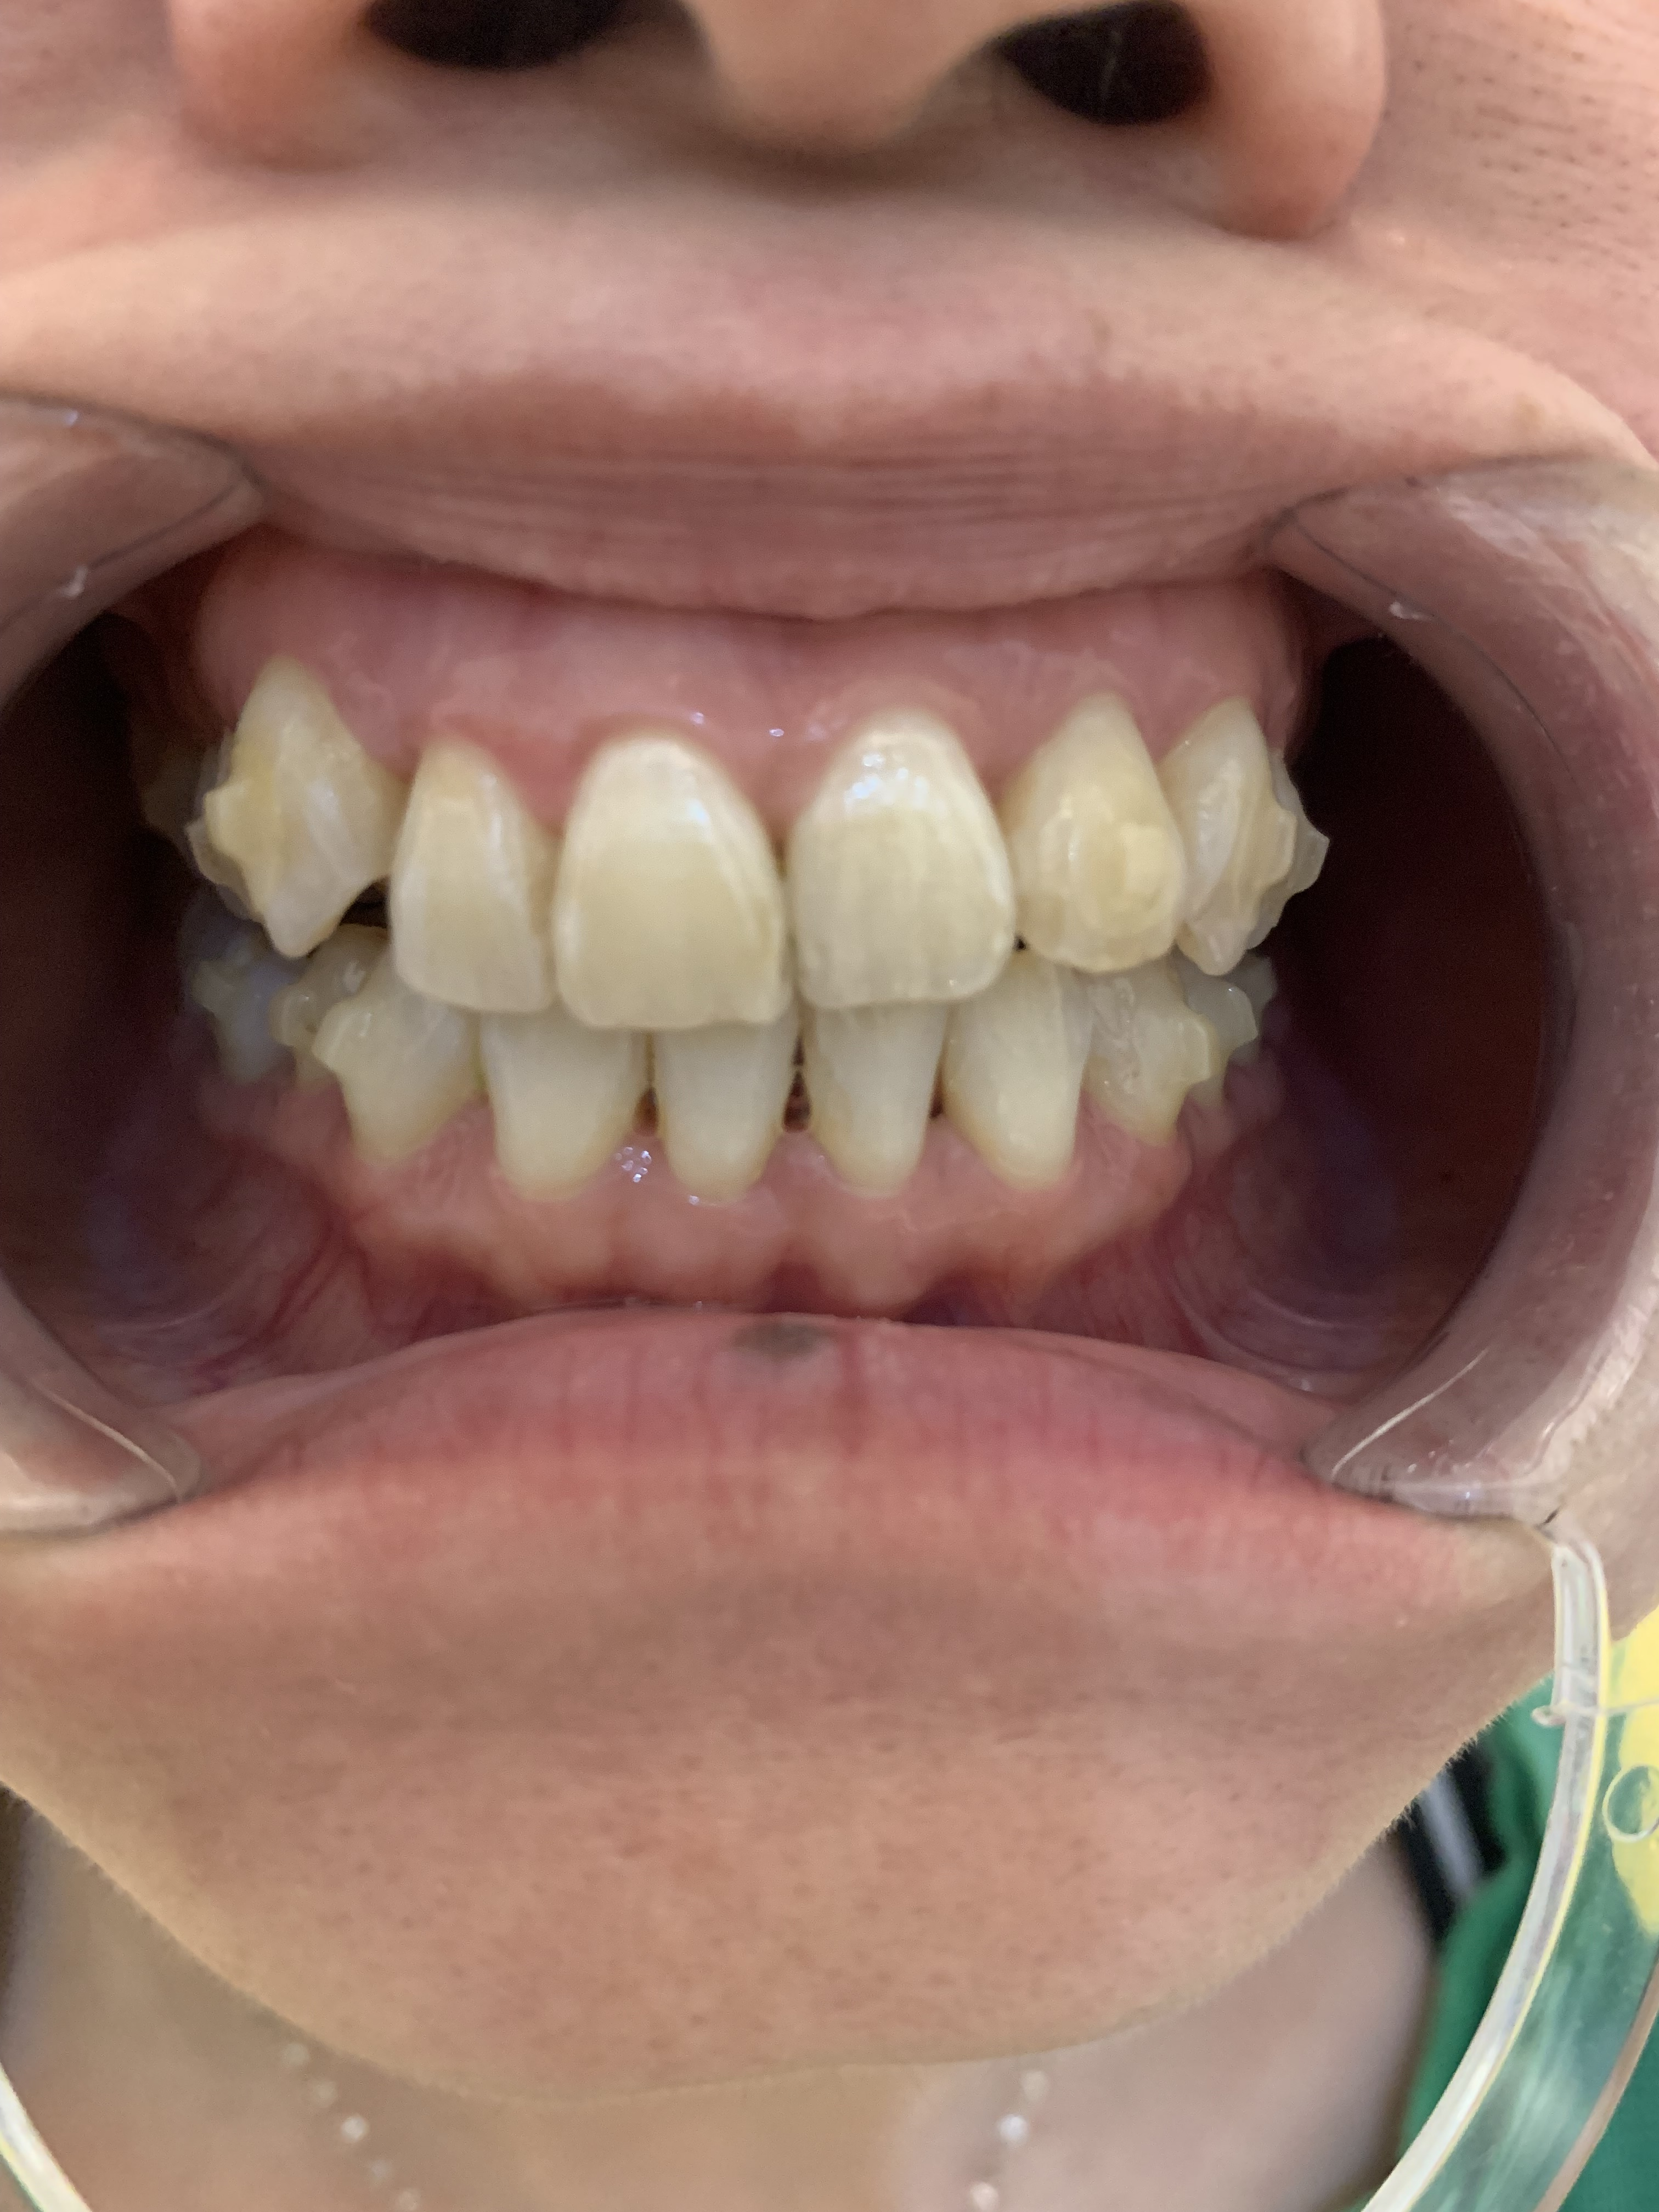teeth: (568, 744, 770, 1007), (819, 714, 1004, 993), (218, 672, 373, 949), (1025, 686, 1175, 937), (397, 745, 542, 998), (941, 970, 1096, 1179), (812, 1012, 950, 1198), (484, 1026, 634, 1179), (352, 958, 457, 1172), (660, 1026, 789, 1197)
